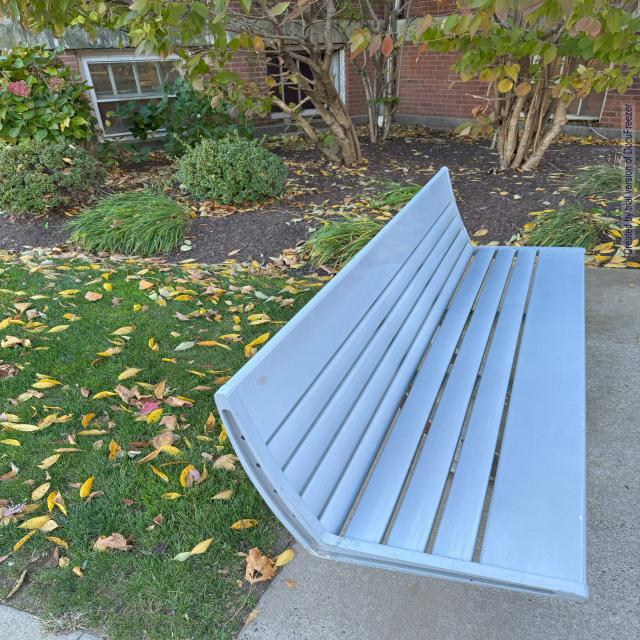chair: (204, 157, 614, 626)
